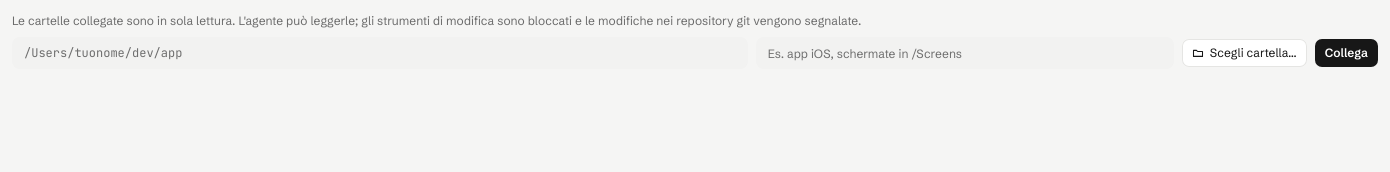
Scenario: CodebaseList › fills the path from the native folder picker in the app
Click the button "Scegli cartella…" at (1244, 53), box [1182, 39, 1307, 67]
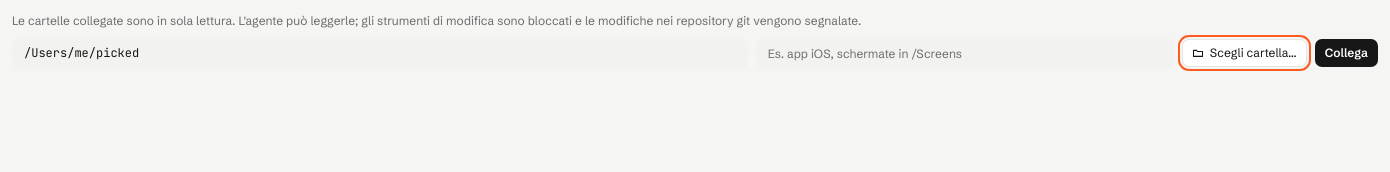
Now the field named "Percorso assoluto della cartella" holds "/Users/me/picked", box [12, 37, 748, 69]
